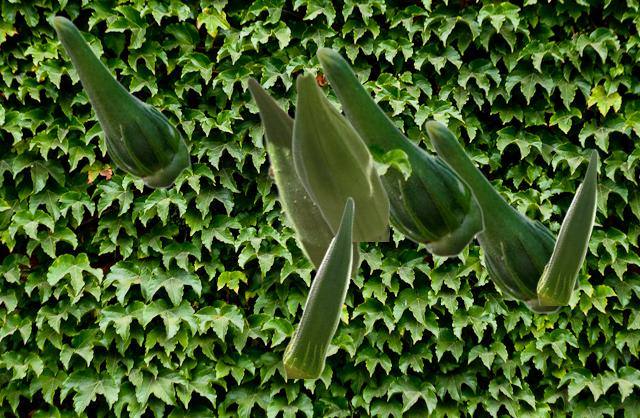okra: (315, 46, 484, 257), (424, 119, 579, 313), (51, 15, 190, 188), (245, 75, 359, 277), (291, 71, 388, 240), (282, 196, 353, 377), (536, 148, 597, 304)
